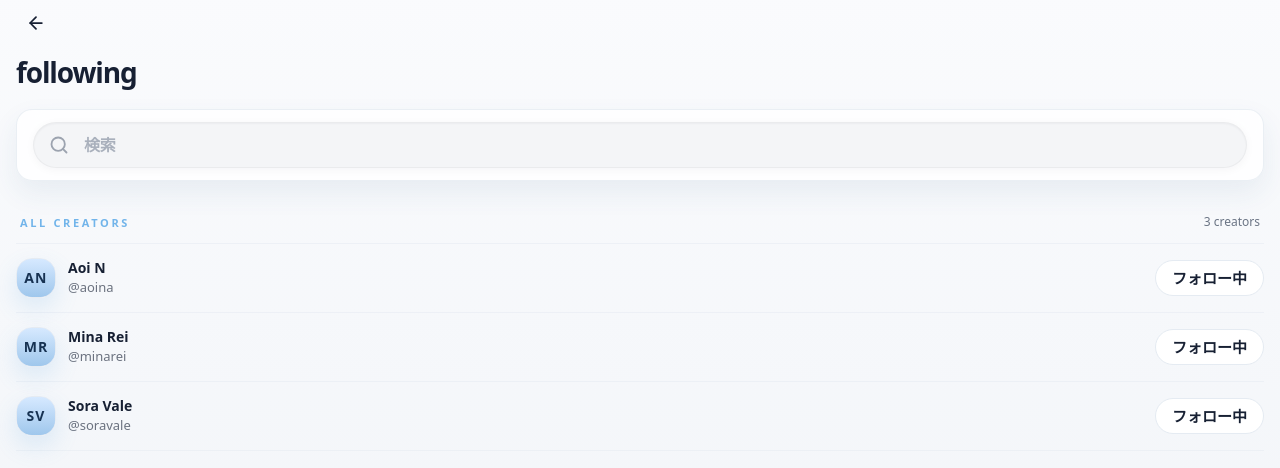
Test: FollowingShell › filters creators by query
Check: the text "3 creators" is shown, box [1204,213,1260,231]
Type "mina" into the search field with placeholder "検索" at (640, 145), box [33,122,1247,168]
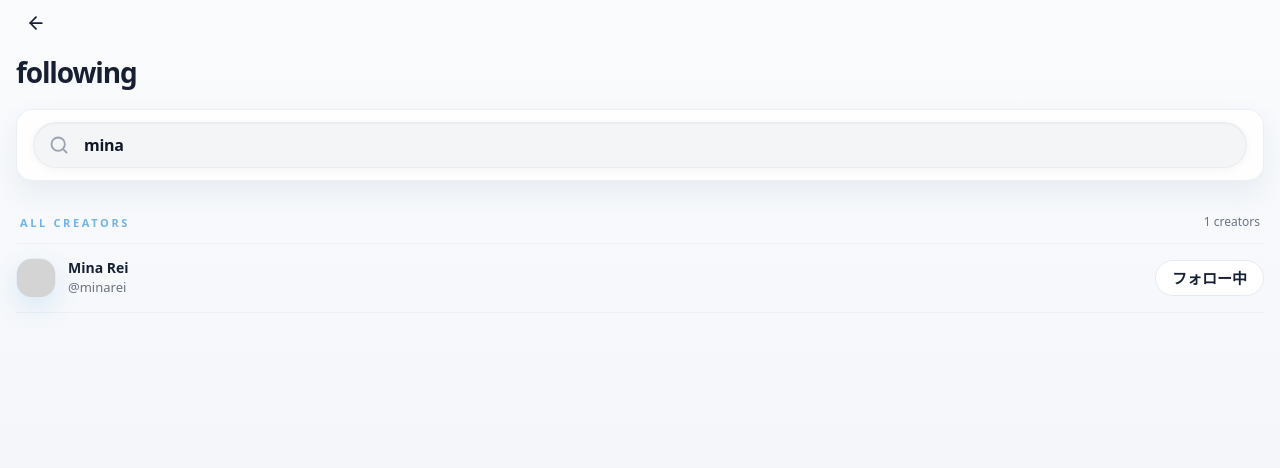
Check: the text "Mina Rei" is shown, box [68,258,129,278]
Check: the text "1 creators" is shown, box [1204,213,1260,231]
Check: the link "Aoi N" is gone
